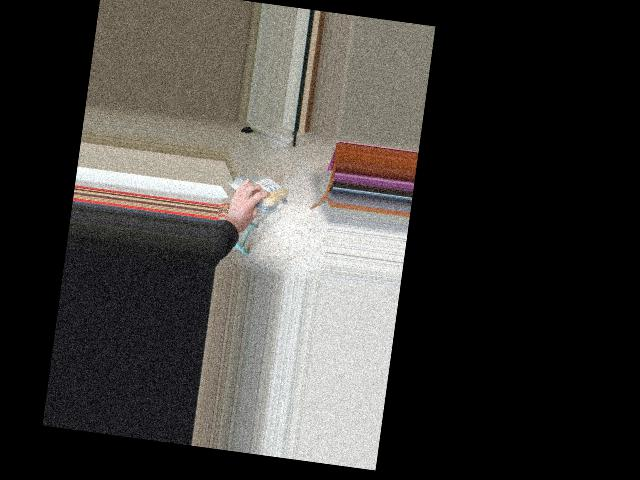cheese: (226, 171, 290, 209)
